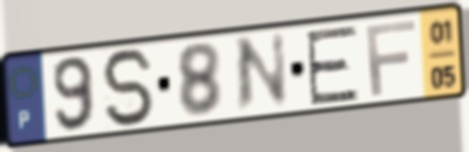8: (175, 39, 226, 121)
9: (50, 53, 98, 134)
E: (303, 22, 361, 108)
F: (362, 17, 418, 98)
N: (234, 29, 292, 118)
S: (99, 46, 159, 130)
